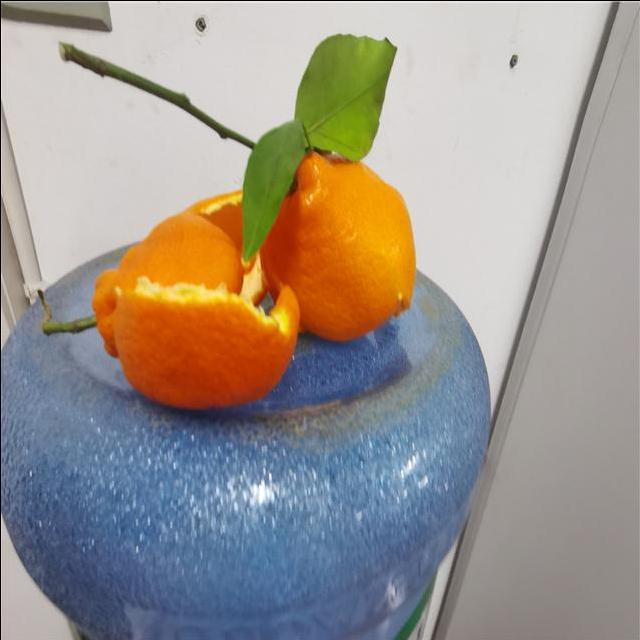orange peel: (92, 191, 300, 409), (242, 136, 416, 347)
